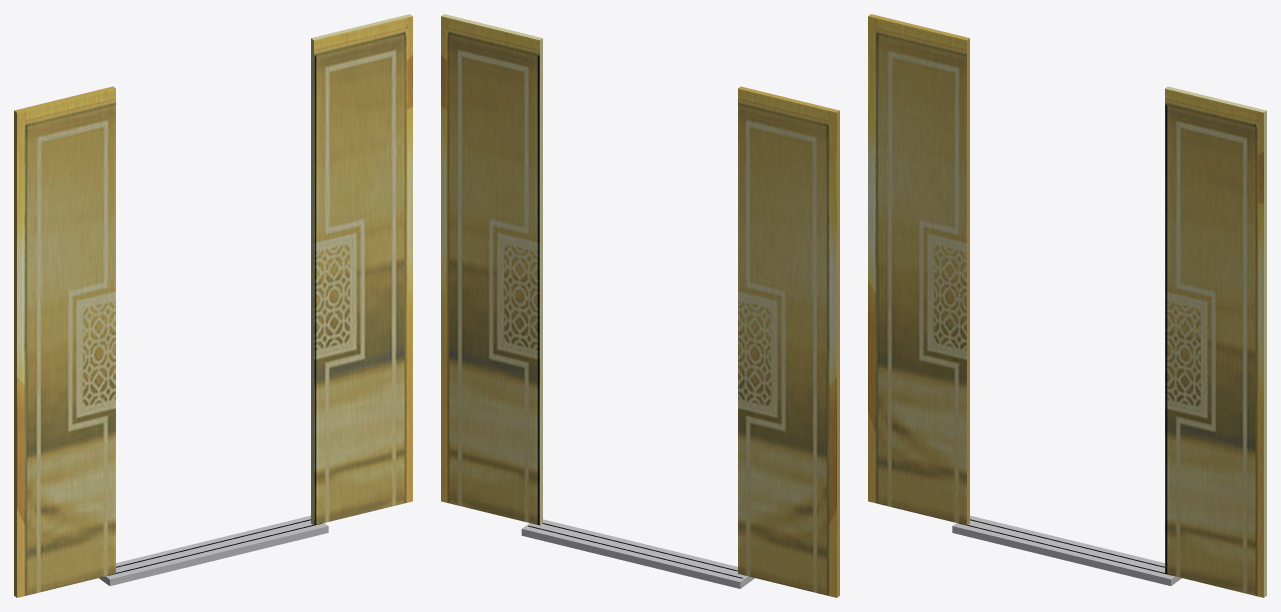
The model's file is cabin_door_TM019.glb.
The picture shows the model from 3 angles, left to right: view 1: azimuth 30°, elevation 25°; view 2: azimuth 150°, elevation 25°; view 3: azimuth 330°, elevation 25°; orthographic projection.
Visible parts, largest first — view 1: Car_Door_L, Car_Door_R, Door_Sill; view 2: Car_Door_L, Car_Door_R, Door_Sill; view 3: Car_Door_R, Car_Door_L, Door_Sill.
Boxes of the visible parts, x1,y1,x2,y2 form: Car_Door_L: [14, 86, 115, 597]; Car_Door_R: [311, 14, 412, 525]; Door_Sill: [99, 515, 328, 585]; Car_Door_L: [738, 86, 839, 597]; Car_Door_R: [441, 14, 542, 525]; Door_Sill: [521, 519, 754, 588]; Car_Door_R: [1165, 86, 1266, 597]; Car_Door_L: [868, 14, 969, 525]; Door_Sill: [952, 515, 1181, 585].
Size of the model in its own units: 1.81 by 2.15 by 0.12.
Materials: 3 (1 with a texture image).
